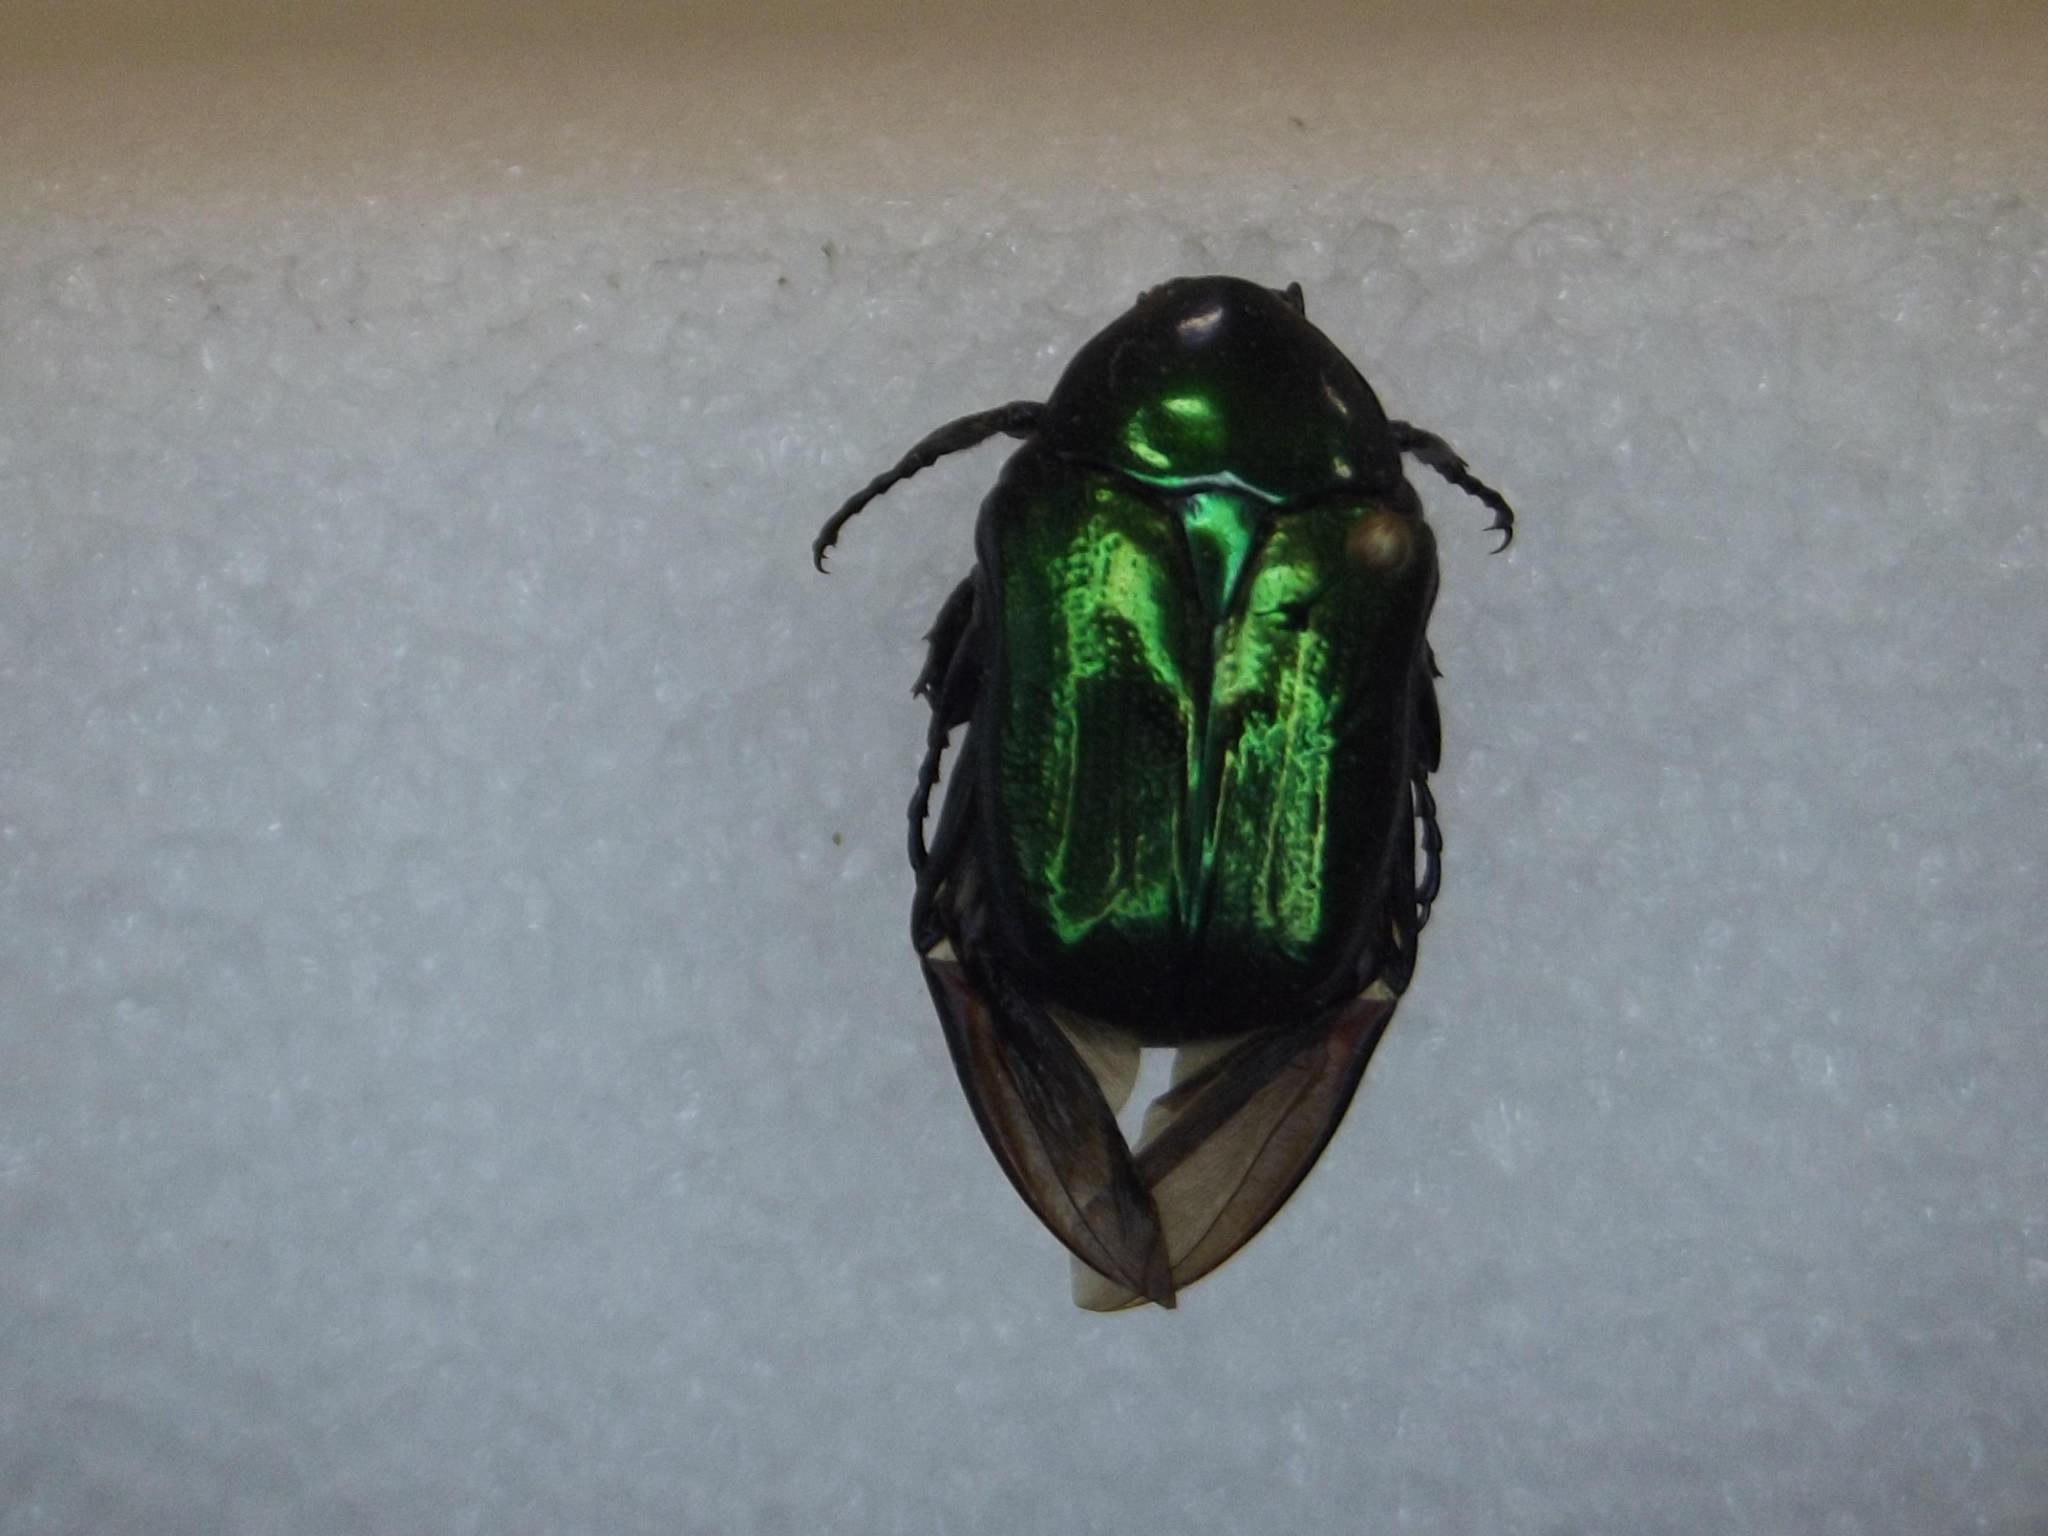Protaetia_angustata_angustata: (777, 253, 1543, 1321)
